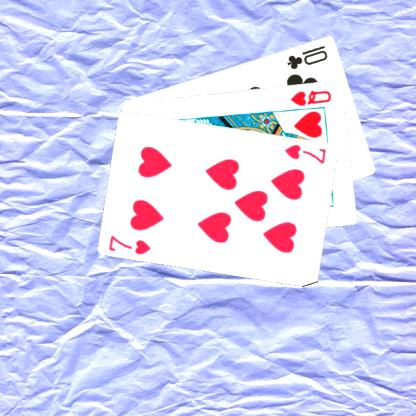10C: (284, 42, 329, 70)
7H: (282, 141, 328, 165), (106, 232, 152, 256)
QH: (288, 87, 333, 107)
